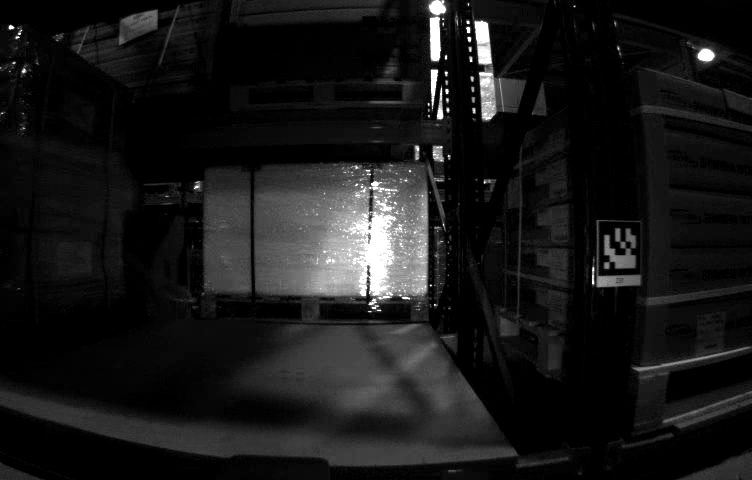True Barcode: (694, 307, 728, 357)
